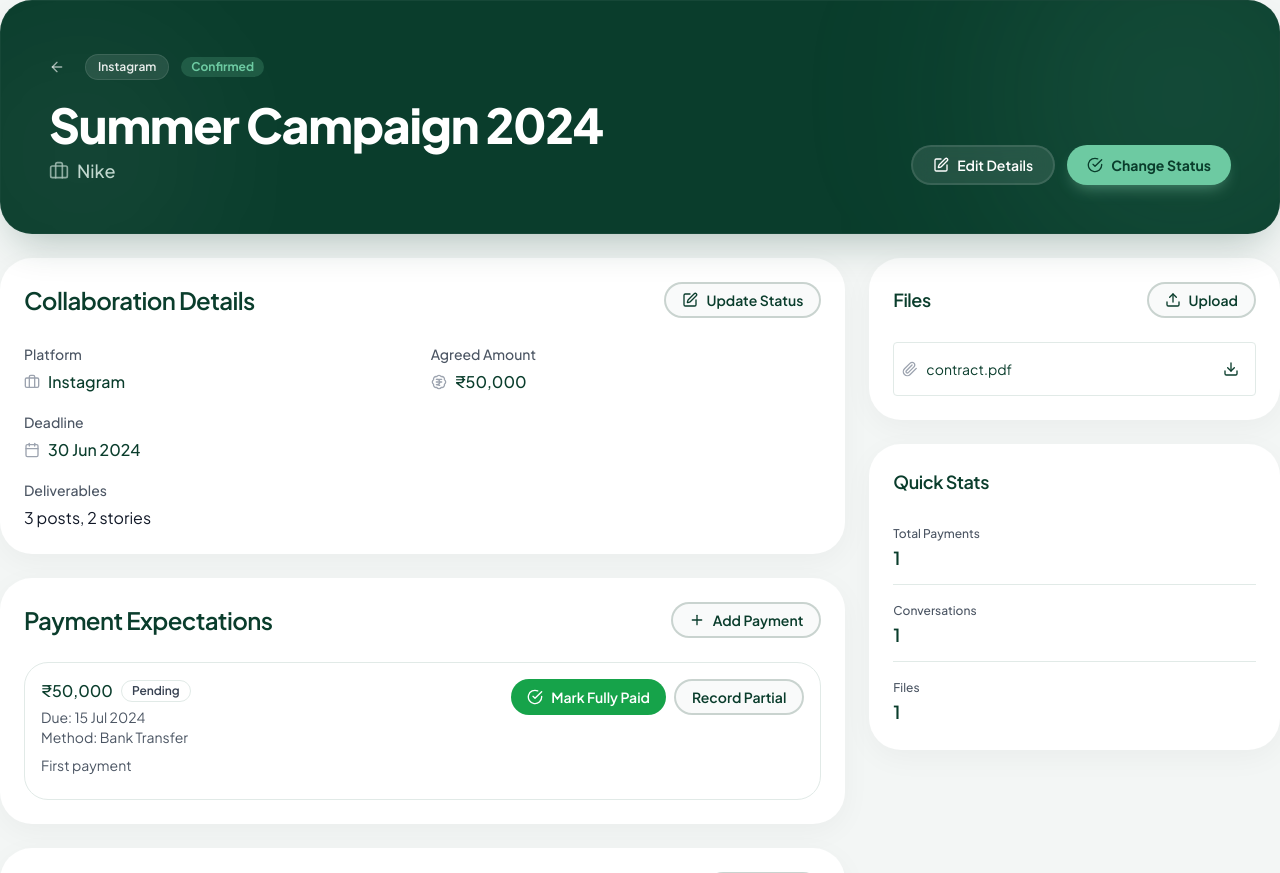
Test case: CollaborationDetailPage › Payment Management › should validate payment amount and allow cancel
Expected: the heading "Summer Campaign 2024" is shown, [49, 101, 603, 149]
Click the button "Add Payment" at (746, 620), box [671, 602, 821, 638]
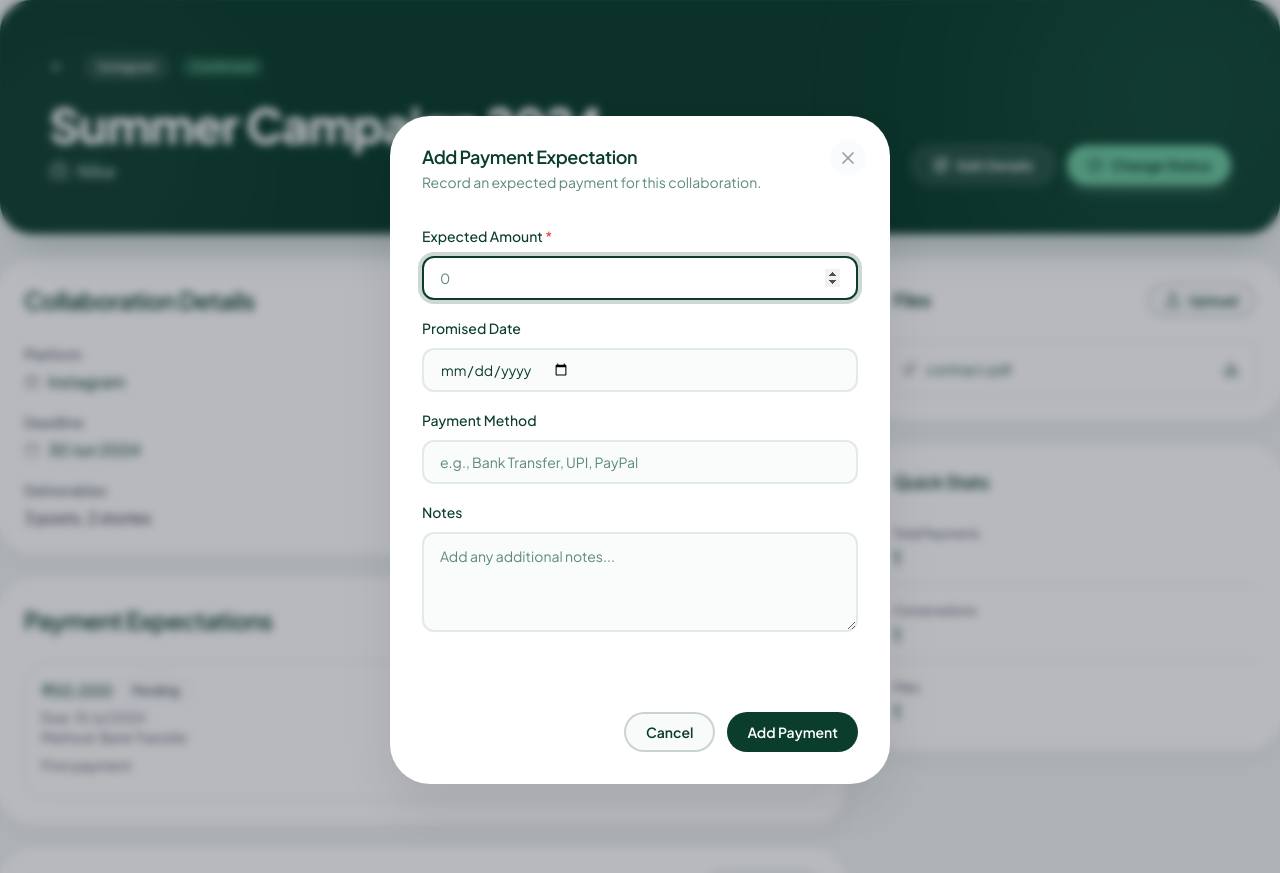
Click the button "Add Payment" at (793, 732), box [727, 712, 858, 752]
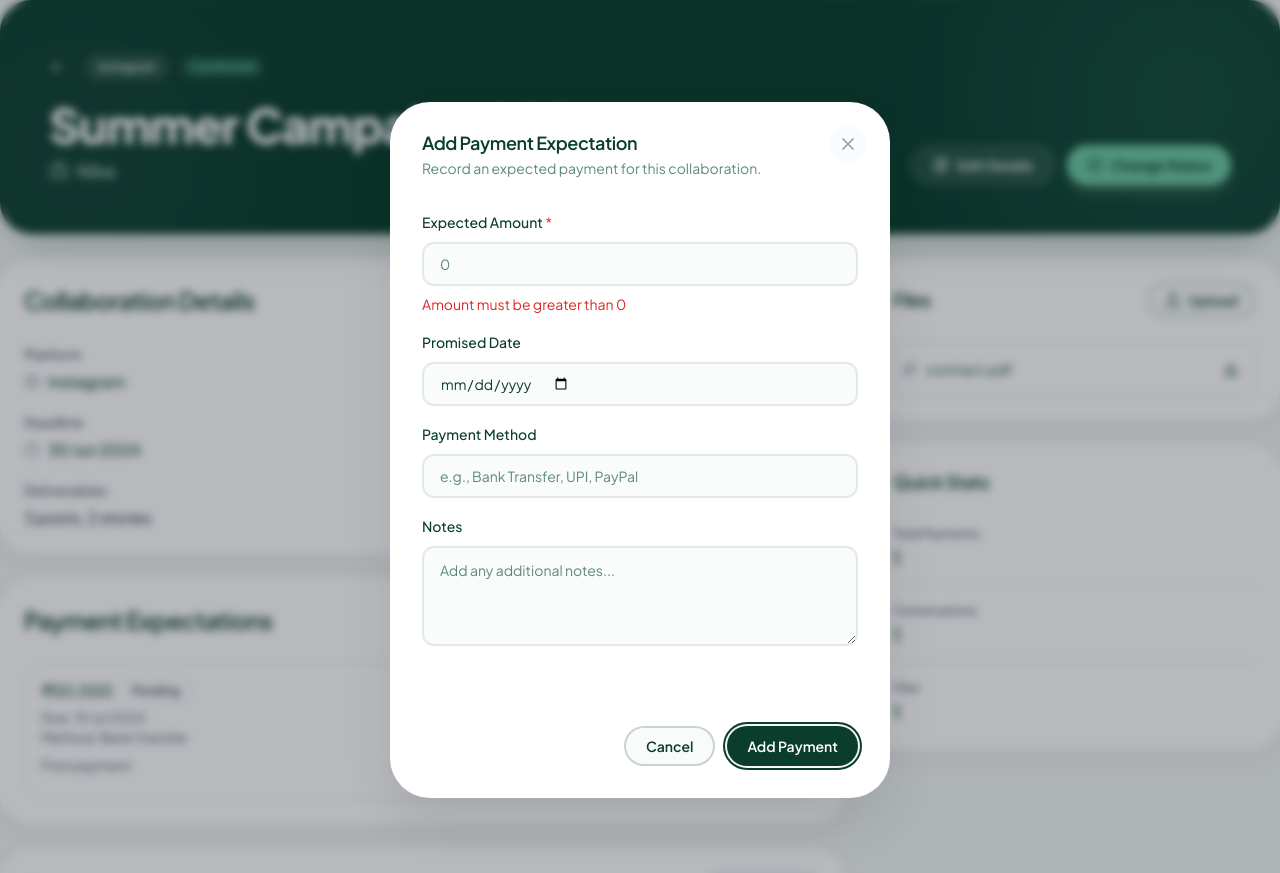
Expected: the text "Amount must be greater than 0" is shown, [422, 295, 626, 313]
Click the button "Cancel" at (670, 746), box [624, 726, 715, 766]
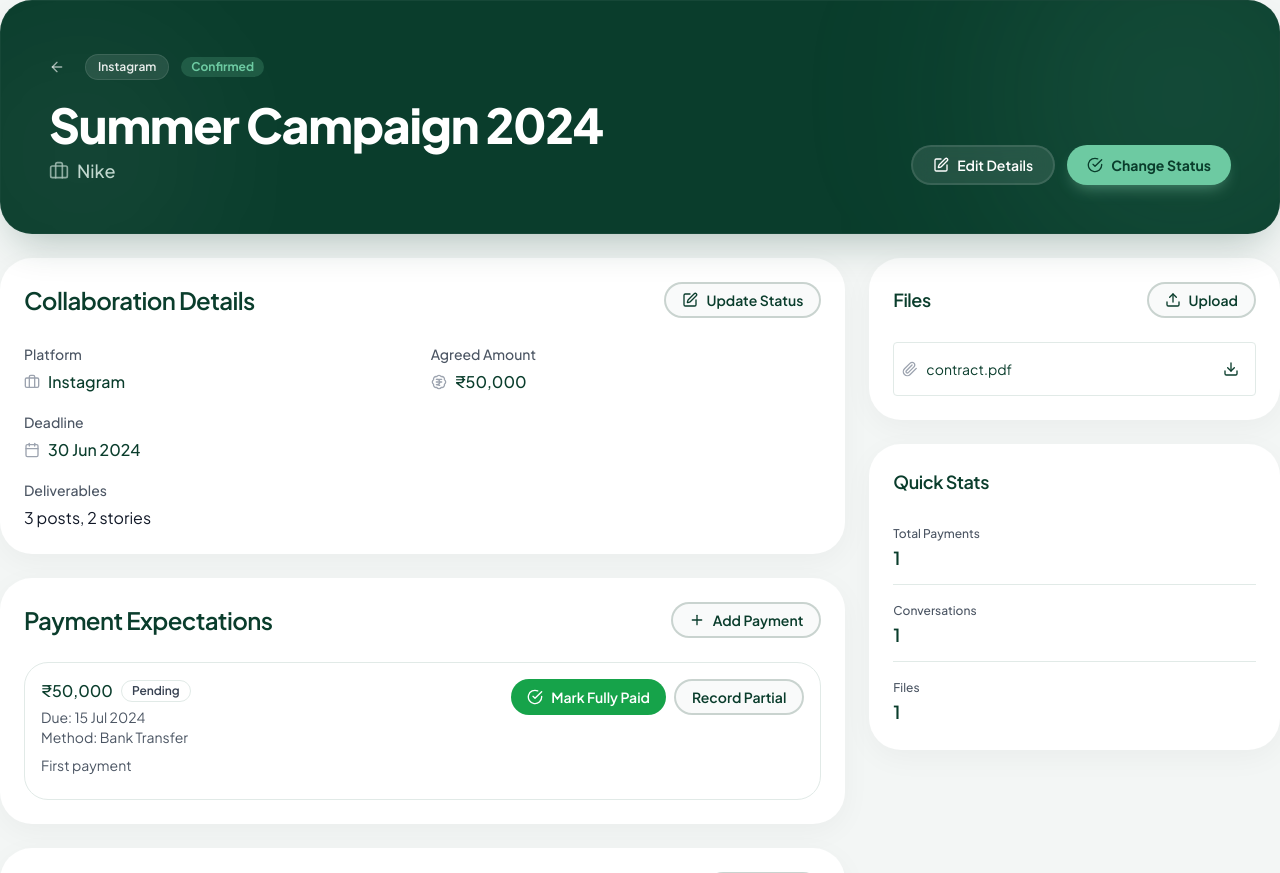
Expected: the dialog is gone
